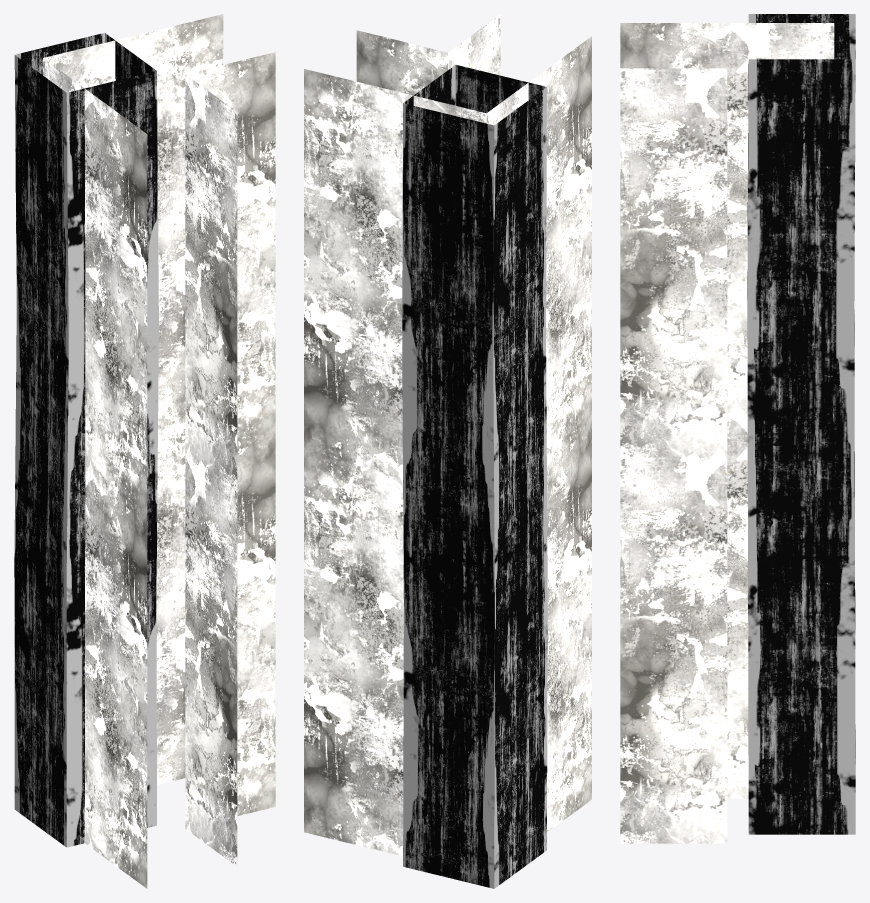
File: SM_wall_A_corner_4_01_01.fbx
3 views of the same model, side by side, from view 1: azimuth 30°, elevation 25°; view 2: azimuth 150°, elevation 25°; view 3: azimuth 270°, elevation 25° (orthographic). The views are drawn at different scales.
Visible parts, largest first — view 1: SM_wall_A_corner_4_01_01_LOD0; view 2: SM_wall_A_corner_4_01_01_LOD0; view 3: SM_wall_A_corner_4_01_01_LOD0.
Boxes of the visible parts, <box> form: SM_wall_A_corner_4_01_01_LOD0: <box>14,14,275,888</box>; SM_wall_A_corner_4_01_01_LOD0: <box>304,14,591,888</box>; SM_wall_A_corner_4_01_01_LOD0: <box>620,14,855,843</box>.
Size of the model in its own units: 110 by 110 by 400.
3 materials, 3 textured.
